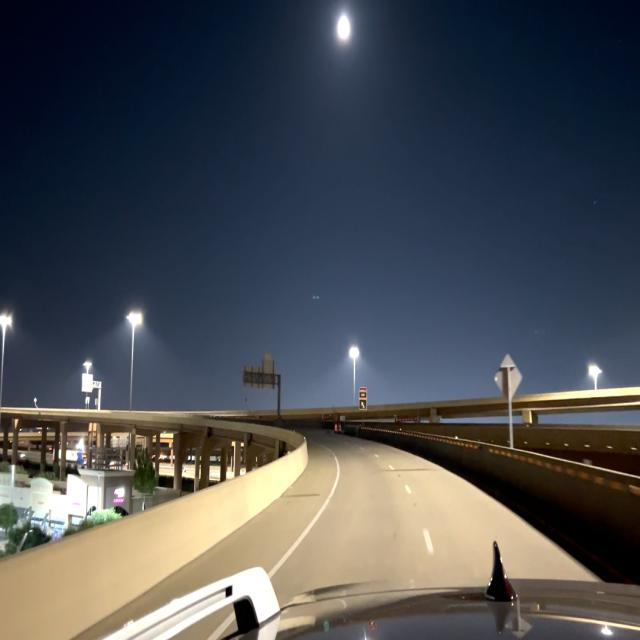back-of-sign: (494, 355, 522, 401)
